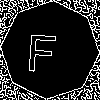F: (25, 25, 59, 73)
